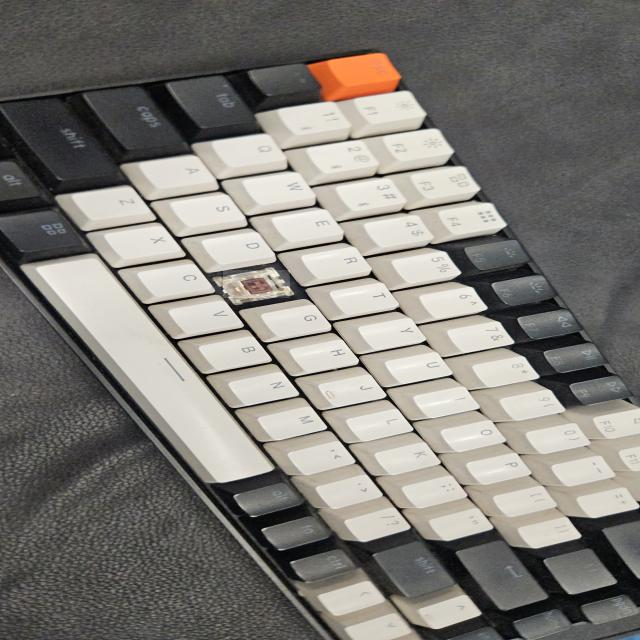C: (223, 270, 290, 298)
